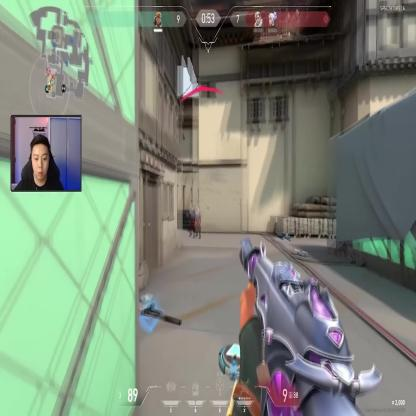enemy: (188, 205, 195, 238)
enemy_head: (190, 206, 192, 210)
